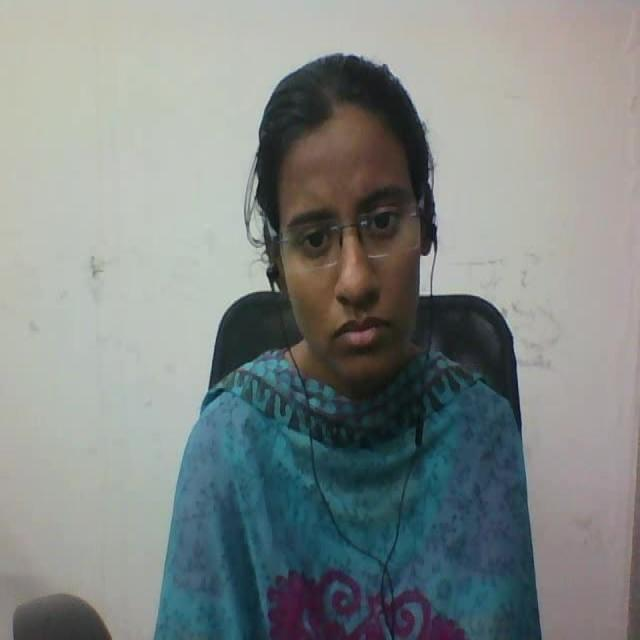Engaged: (233, 31, 446, 396)
